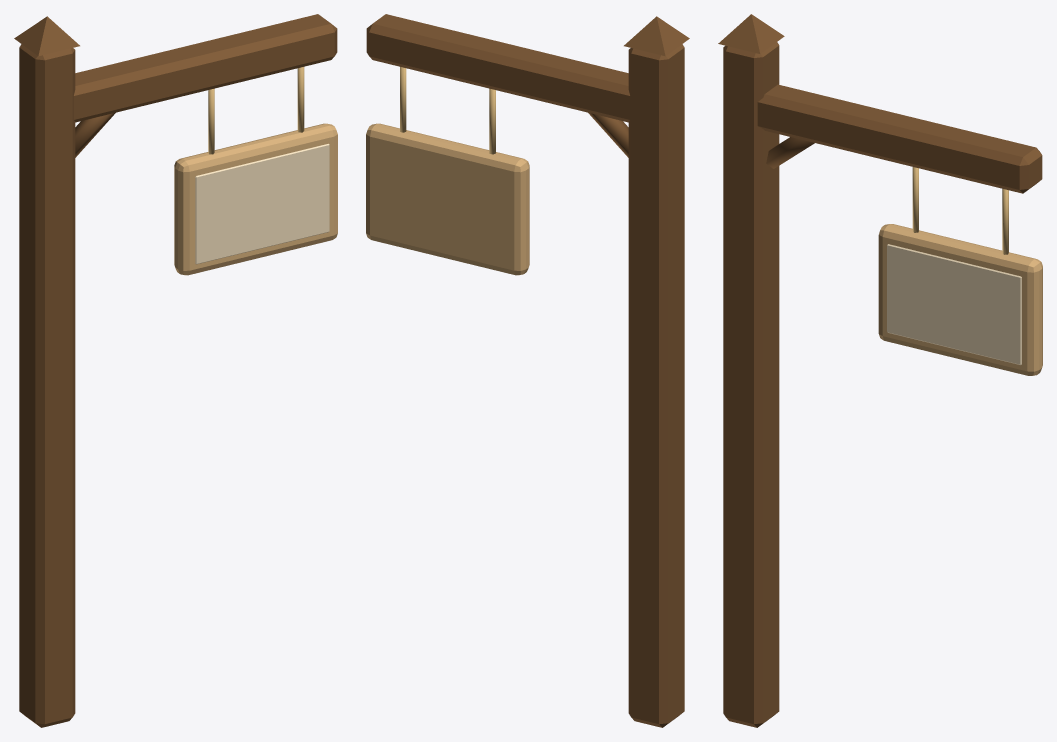
File: placa-tabuleta.glb
3 renders of one model, left to right at view 1: azimuth 30°, elevation 25°; view 2: azimuth 150°, elevation 25°; view 3: azimuth 330°, elevation 25°, orthographic.
Parts seen in each view (by area): view 1: placa, texto; view 2: placa; view 3: placa, texto.
Boxes of the visible parts, left/top/right/bottom form: placa: left=14, top=14, right=337, bottom=727; texto: left=195, top=143, right=329, bottom=264; placa: left=366, top=14, right=689, bottom=727; placa: left=718, top=14, right=1042, bottom=727; texto: left=887, top=244, right=1021, bottom=365.
Bounding box in the file's own units: 0.6224 × 1.35 × 0.0849.
